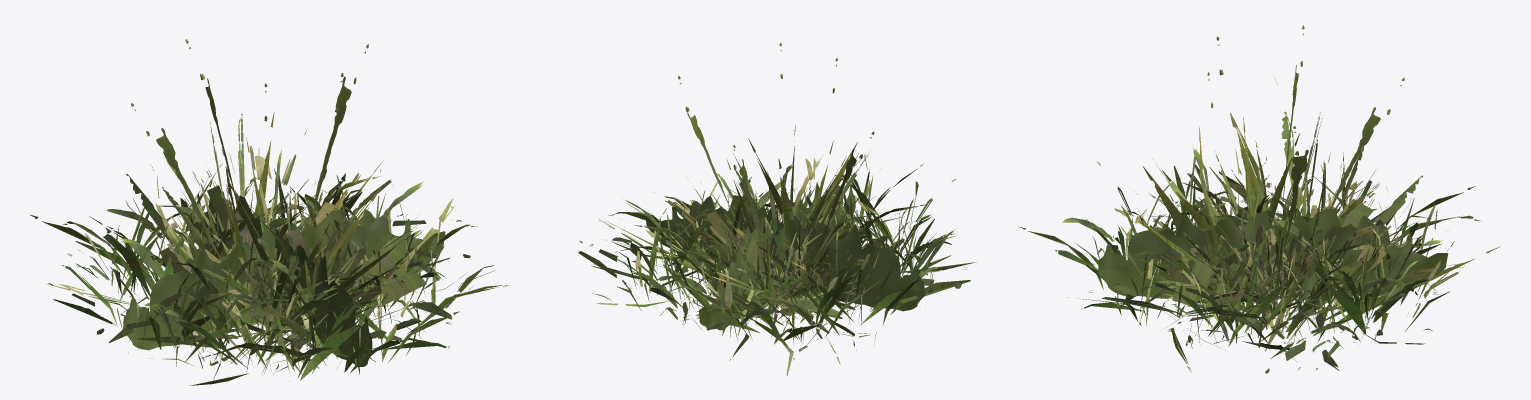
The model's file is wild_grass.glb.
3 renders of one model, left to right at view 1: azimuth 30°, elevation 25°; view 2: azimuth 150°, elevation 25°; view 3: azimuth 270°, elevation 25°, orthographic. The views are drawn at different scales.
Parts seen in each view (by area): view 1: SM_vlkhcbxia_VarA; view 2: SM_vlkhcbxia_VarA; view 3: SM_vlkhcbxia_VarA.
Part boxes in pixels (left/top/right/bottom): SM_vlkhcbxia_VarA: left=29, top=39, right=510, bottom=385; SM_vlkhcbxia_VarA: left=578, top=43, right=976, bottom=375; SM_vlkhcbxia_VarA: left=1018, top=25, right=1500, bottom=373.
Size of what is drawn, in the model's own units: 0.5529 by 0.4098 by 0.5734.
1 material, 1 textured.
